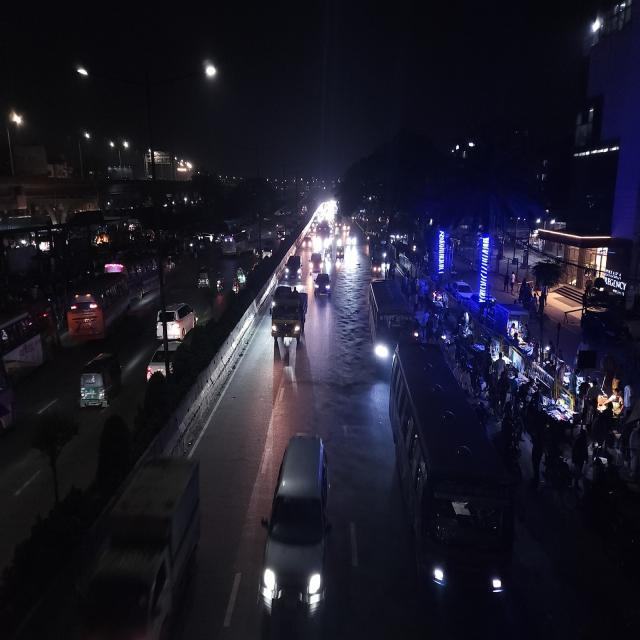bus: (386, 337, 518, 635), (60, 268, 135, 342), (366, 276, 415, 362), (267, 288, 308, 350)
car: (257, 424, 332, 624), (153, 298, 198, 341), (142, 345, 186, 382), (312, 271, 332, 301), (283, 255, 305, 282), (452, 279, 475, 304), (308, 251, 324, 273), (260, 244, 274, 260), (302, 235, 314, 251)
cng: (73, 347, 125, 411), (196, 265, 213, 293), (336, 242, 345, 264)
motorcycle: (230, 277, 243, 299), (215, 270, 224, 293)
pickup_van: (92, 452, 204, 640)
